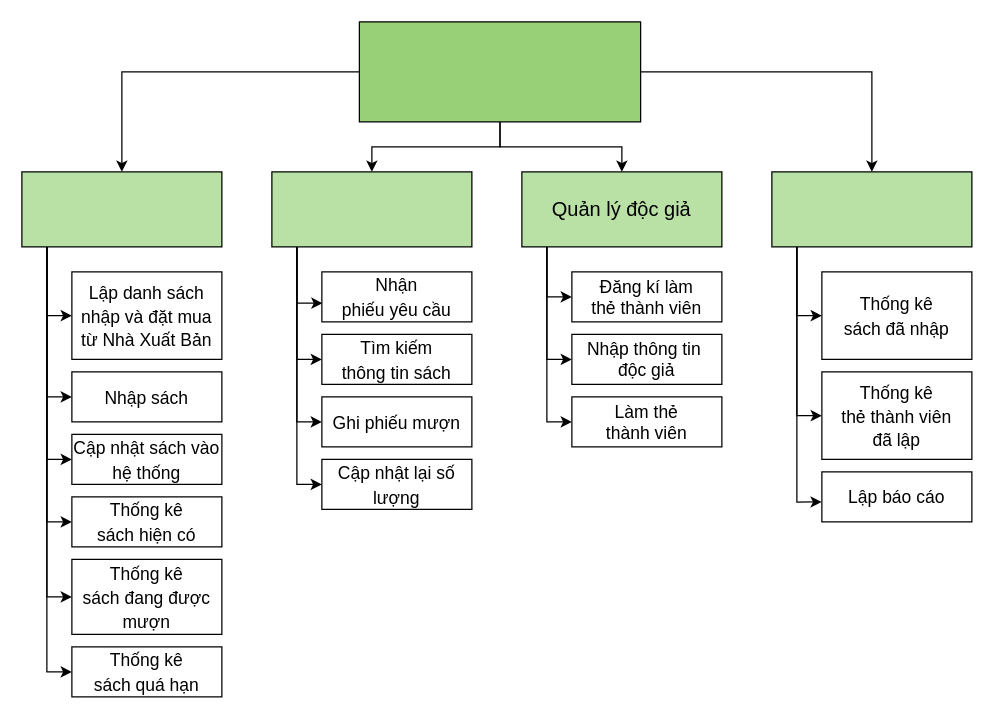
This 994x719 diagram has some shape labels left out. The centre of each missing label's shape, as x and y in pixels:
Quản lý mượn: the point at 371,209
Quản lý sách: the point at 121,209
QUẢN LÝ THƯ VIỆN: the point at 499,71
Thống kê và báo cáo: the point at 871,209
